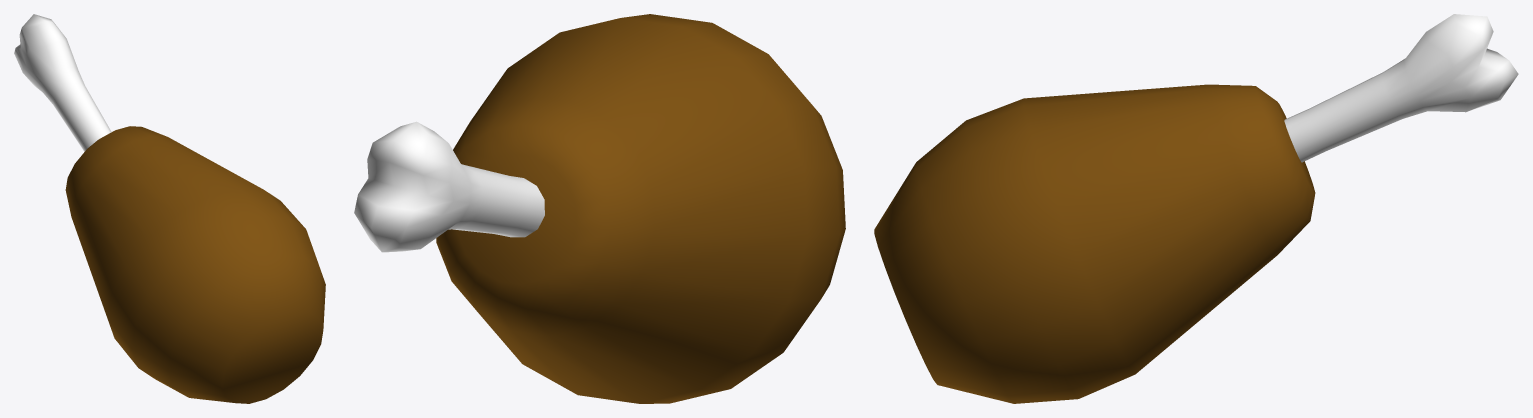
The model's file is SM_Keule.fbx.
3 views of the same model, side by side, from view 1: azimuth 30°, elevation 25°; view 2: azimuth 150°, elevation 25°; view 3: azimuth 270°, elevation 25° (orthographic). The views are drawn at different scales.
Visible parts, largest first — view 1: Keule.001; view 2: Keule.001; view 3: Keule.001.
Part boxes in pixels (x1,y1,x2,y2): Keule.001: (14,14,325,403); Keule.001: (354,14,845,403); Keule.001: (874,14,1518,403).
Bounding box in the file's own units: 57.37 × 75.49 × 122.
